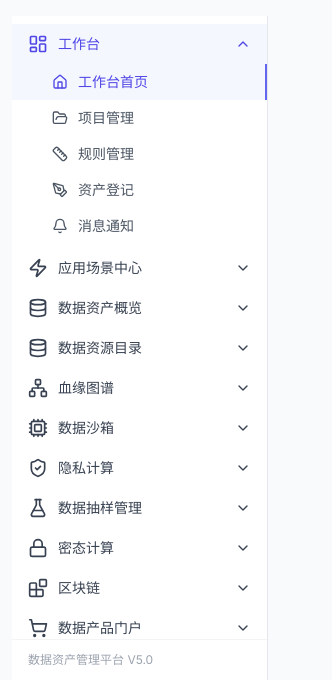
Sidebar Component › toggles menu expand on click
Note: Click to expand
What coordinates should you click on to do the following:
click the button "数据资产概览"
I would click on:
 (140, 308)
Its box is [12,288,267,328].
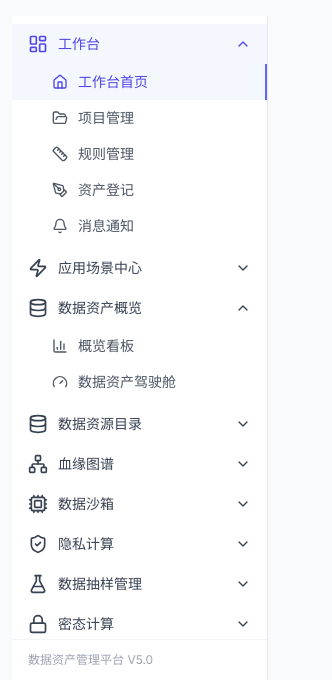
Expected: the text "概览看板" is shown, [78,336,134,356]
Expected: the text "数据资产驾驶舱" is shown, [78,372,176,392]
Note: Click to collapse
What coordinates should you click on to do the following:
click the button "数据资产概览"
I would click on:
 (140, 308)
Its box is [12,288,267,328].
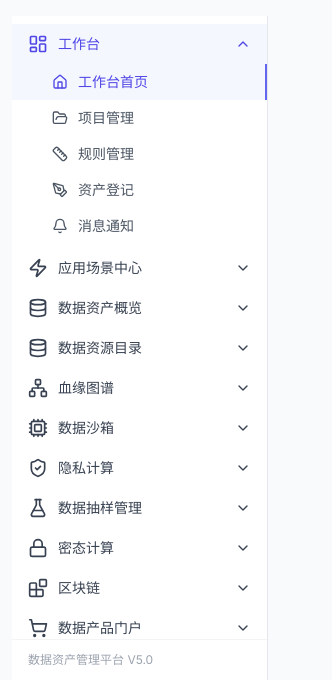
Expected: the link "概览看板" is gone
